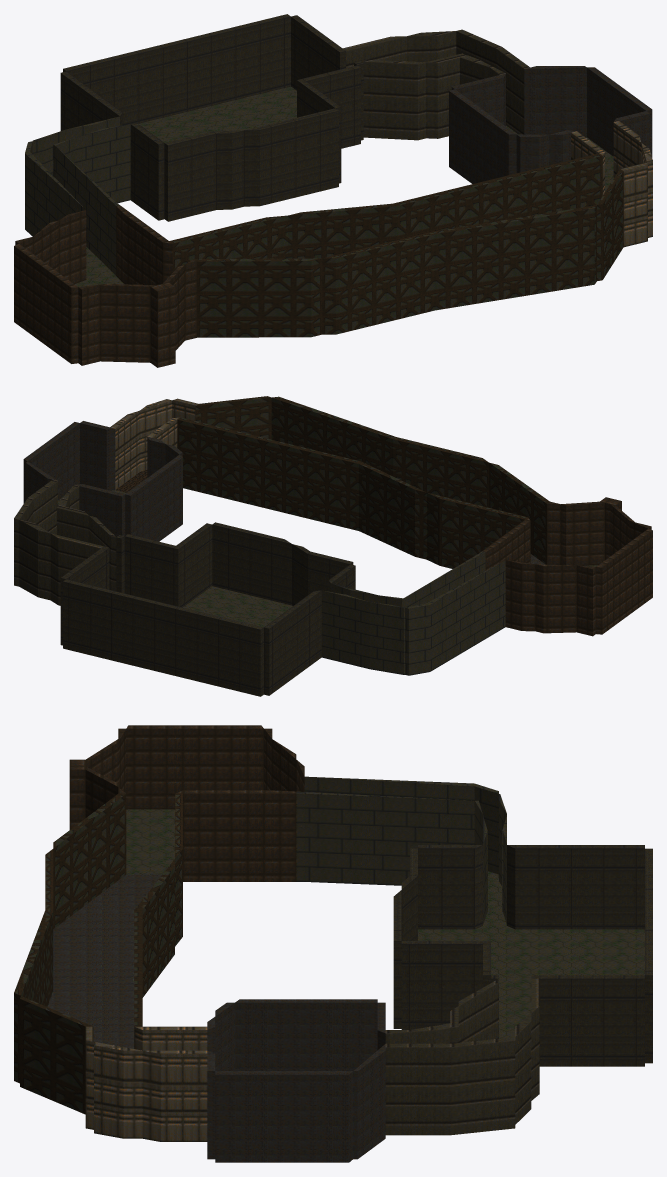
Rendered from level1.obj.
The picture shows the model from 3 angles, top to bottom: view 1: azimuth 30°, elevation 25°; view 2: azimuth 150°, elevation 25°; view 3: azimuth 270°, elevation 25°; orthographic projection. The views are drawn at different scales.
Visible parts, largest first — view 1: entity0_brush1, entity0_brush64, entity0_brush69, entity0_brush61, entity0_brush68, entity0_brush7, entity0_brush70, entity0_brush66, entity0_brush43, entity0_brush2, entity0_brush38, entity0_brush9 (+39 smaller); view 2: entity0_brush1, entity0_brush61, entity0_brush90, entity0_brush7, entity0_brush64, entity0_brush66, entity0_brush65, entity0_brush68, entity0_brush103, entity0_brush70, entity0_brush43, entity0_brush11 (+38 smaller); view 3: entity0_brush40, entity0_brush91, entity0_brush103, entity0_brush70, entity0_brush43, entity0_brush16, entity0_brush2, entity0_brush71, entity0_brush67, entity0_brush69, entity0_brush6, entity0_brush36 (+35 smaller).
Part boxes in pixels (x1,y1,x2,y2): entity0_brush1: [63, 14, 290, 125]; entity0_brush64: [431, 205, 596, 310]; entity0_brush69: [194, 258, 322, 337]; entity0_brush61: [393, 153, 602, 240]; entity0_brush68: [322, 232, 434, 334]; entity0_brush7: [244, 108, 338, 206]; entity0_brush70: [14, 243, 78, 363]; entity0_brush66: [288, 203, 396, 258]; entity0_brush43: [449, 89, 516, 183]; entity0_brush2: [135, 86, 296, 142]; entity0_brush38: [524, 66, 586, 137]; entity0_brush9: [164, 134, 216, 221]; entity0_brush1: [63, 579, 263, 696]; entity0_brush61: [177, 417, 361, 530]; entity0_brush90: [426, 560, 505, 671]; entity0_brush7: [212, 522, 292, 605]; entity0_brush64: [271, 396, 395, 476]; entity0_brush66: [359, 462, 426, 559]; entity0_brush65: [427, 492, 527, 568]; entity0_brush68: [393, 437, 488, 507]; entity0_brush103: [264, 590, 321, 695]; entity0_brush70: [596, 528, 652, 634]; entity0_brush43: [125, 454, 182, 541]; entity0_brush11: [124, 534, 181, 607]; entity0_brush40: [215, 1071, 353, 1162]; entity0_brush91: [304, 792, 474, 885]; entity0_brush103: [507, 845, 644, 929]; entity0_brush70: [126, 725, 263, 809]; entity0_brush43: [235, 999, 377, 1070]; entity0_brush16: [531, 975, 644, 1066]; entity0_brush2: [491, 929, 644, 1038]; entity0_brush71: [176, 790, 272, 881]; entity0_brush67: [53, 874, 161, 990]; entity0_brush69: [53, 793, 126, 928]; entity0_brush6: [401, 941, 482, 1029]; entity0_brush36: [385, 1043, 450, 1135].
Size of the model in its own units: 1632 by 192 by 1262.
10 materials, 10 textured.
